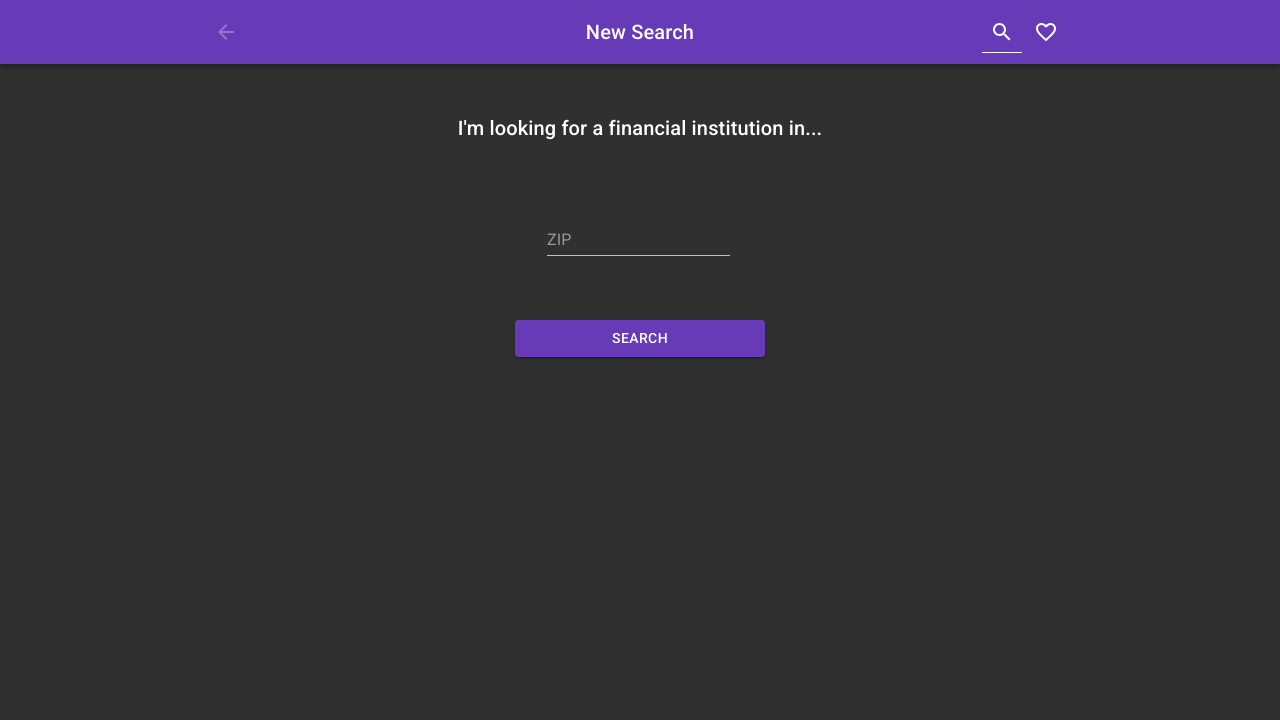
Test case: Results Page › Displays results
Type "90210" into the field with placeholder "ZIP" at (638, 240), box [547,224,730,256]
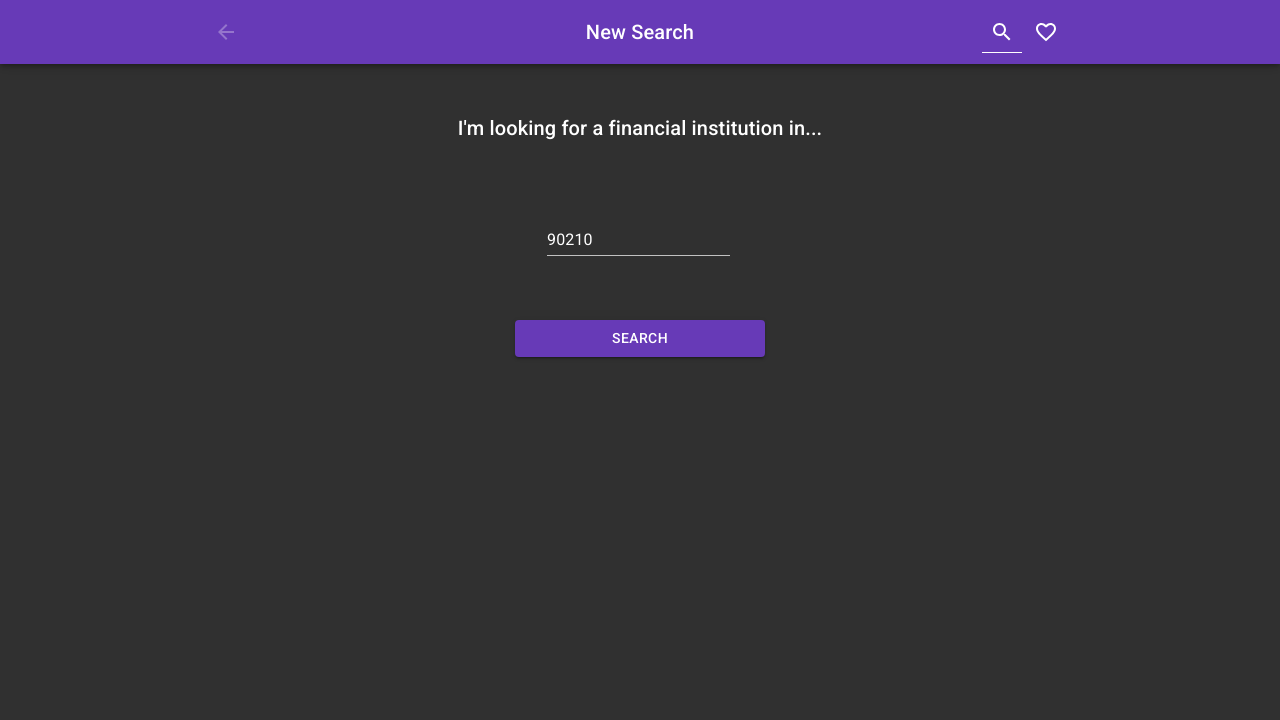
Click the button "Search" at (640, 338), box [515,320,765,356]
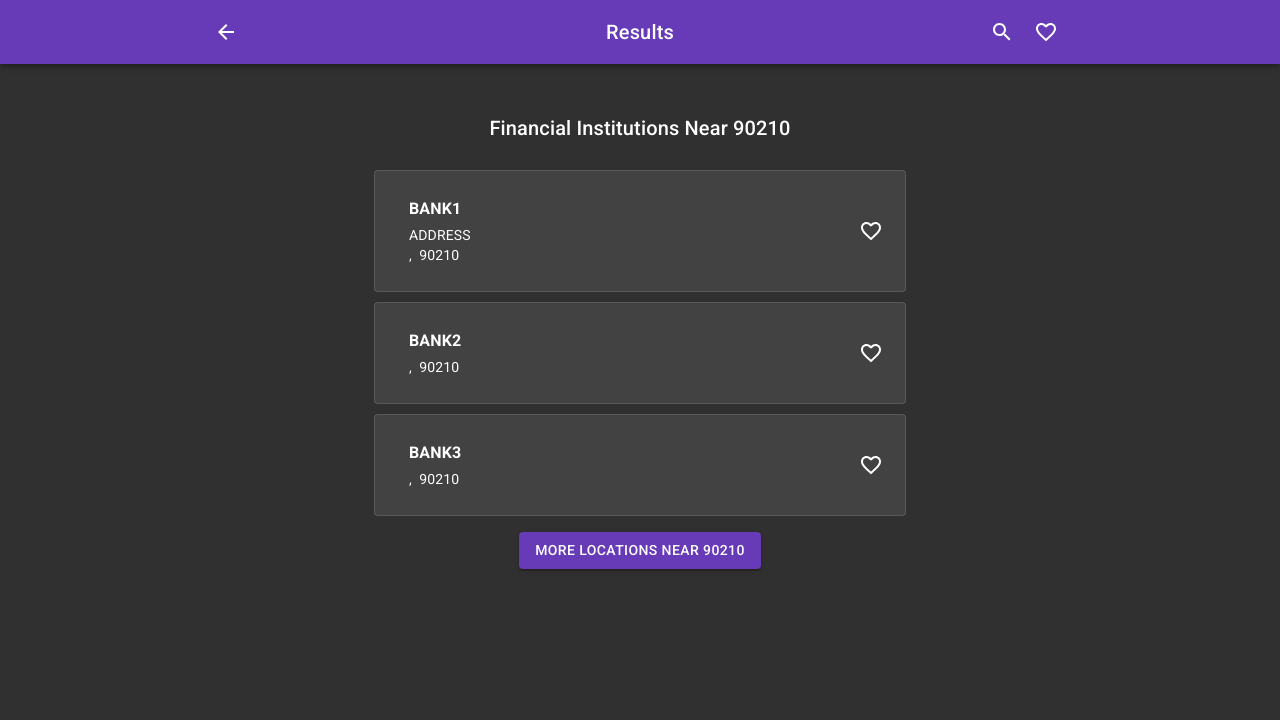
Result: the text "BANK1" is shown at [409,199,461,218]
Result: the text "BANK2" is shown at [409,331,461,350]
Result: the text "BANK3" is shown at [409,443,461,462]
